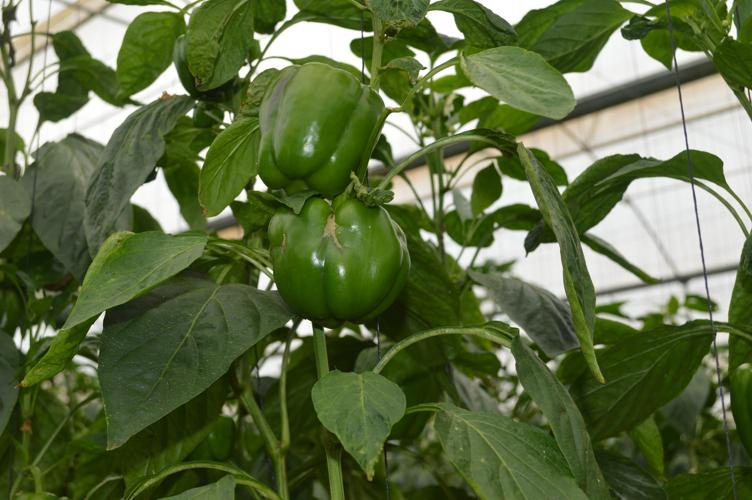BellPepper: (263, 195, 403, 320), (254, 63, 376, 197)
